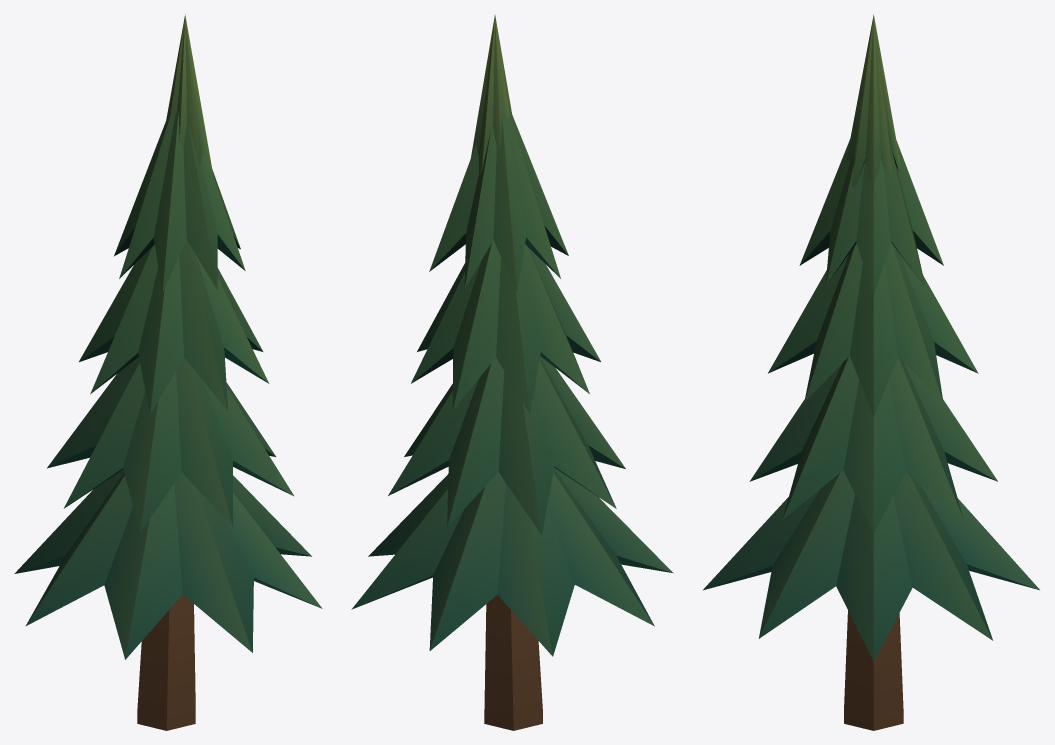
3 renders of one model, left to right at view 1: azimuth 30°, elevation 25°; view 2: azimuth 150°, elevation 25°; view 3: azimuth 270°, elevation 25°, orthographic.
Visible parts, largest first — view 1: prop_pine_mountain; view 2: prop_pine_mountain; view 3: prop_pine_mountain.
Boxes of the visible parts, x1=… form: prop_pine_mountain: x1=14, y1=14, x2=322, y2=730; prop_pine_mountain: x1=351, y1=14, x2=673, y2=730; prop_pine_mountain: x1=703, y1=14, x2=1039, y2=730.
Size of the model in its own units: 4.09 by 9.5 by 4.09.
